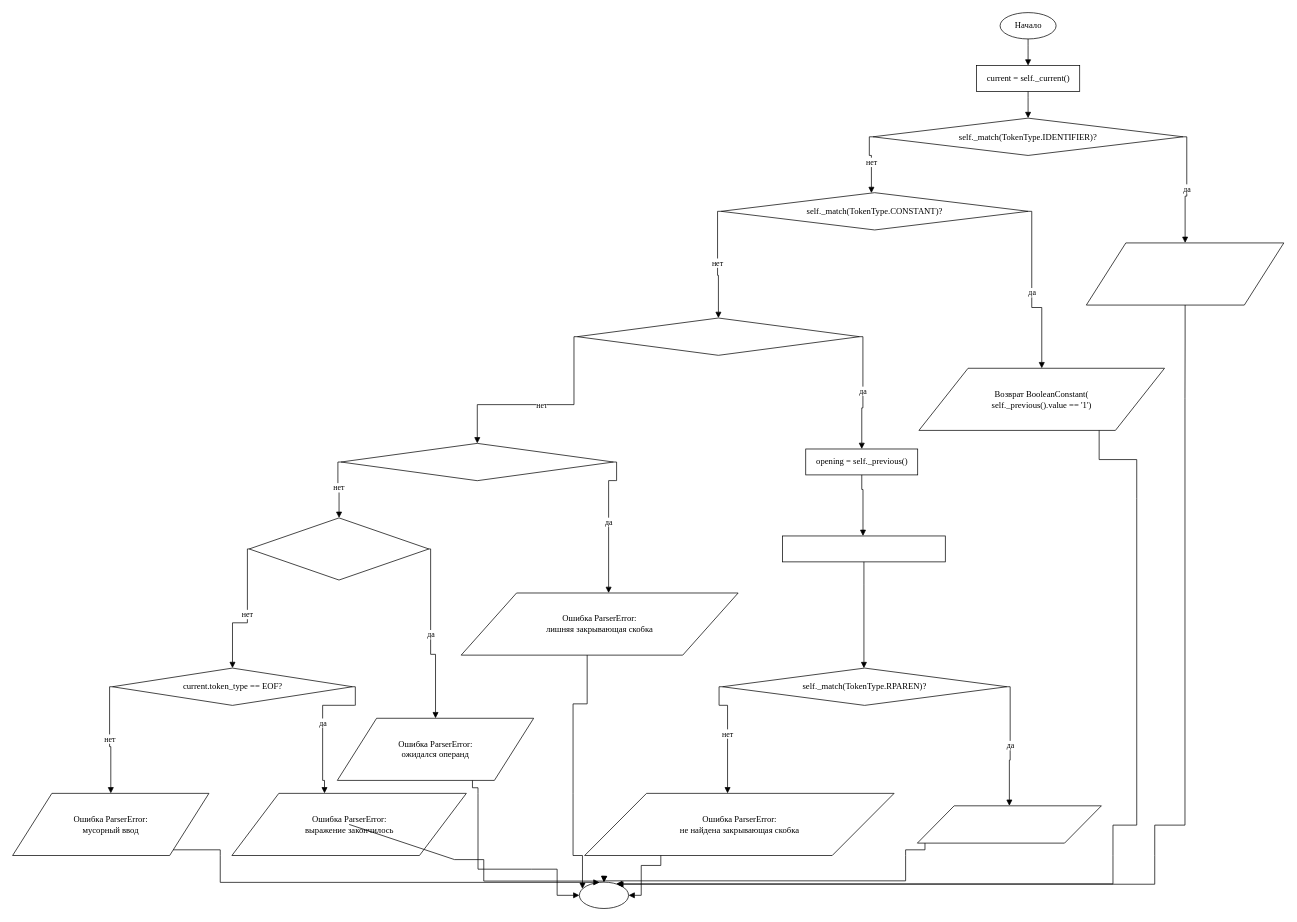
The diagram is 1297 pixels wide and 922 high, and some of its shapes have lost their labels. Here are the shapes that lost their labels. From the top down, the centre of each, then its label:
At [1185,273]: "Возврат Identifier( self._previous().value)".
At [718,336]: "self._match(TokenType.LPAREN)?".
At [477,462]: "current.token_type == RPAREN?".
At [338,548]: "current.token_type в _BINARY_TOKENS?".
At [863,548]: "expression = self._parse_equivalence()".
At [1009,824]: "Возврат expression".
At [604,894]: "Конец".
